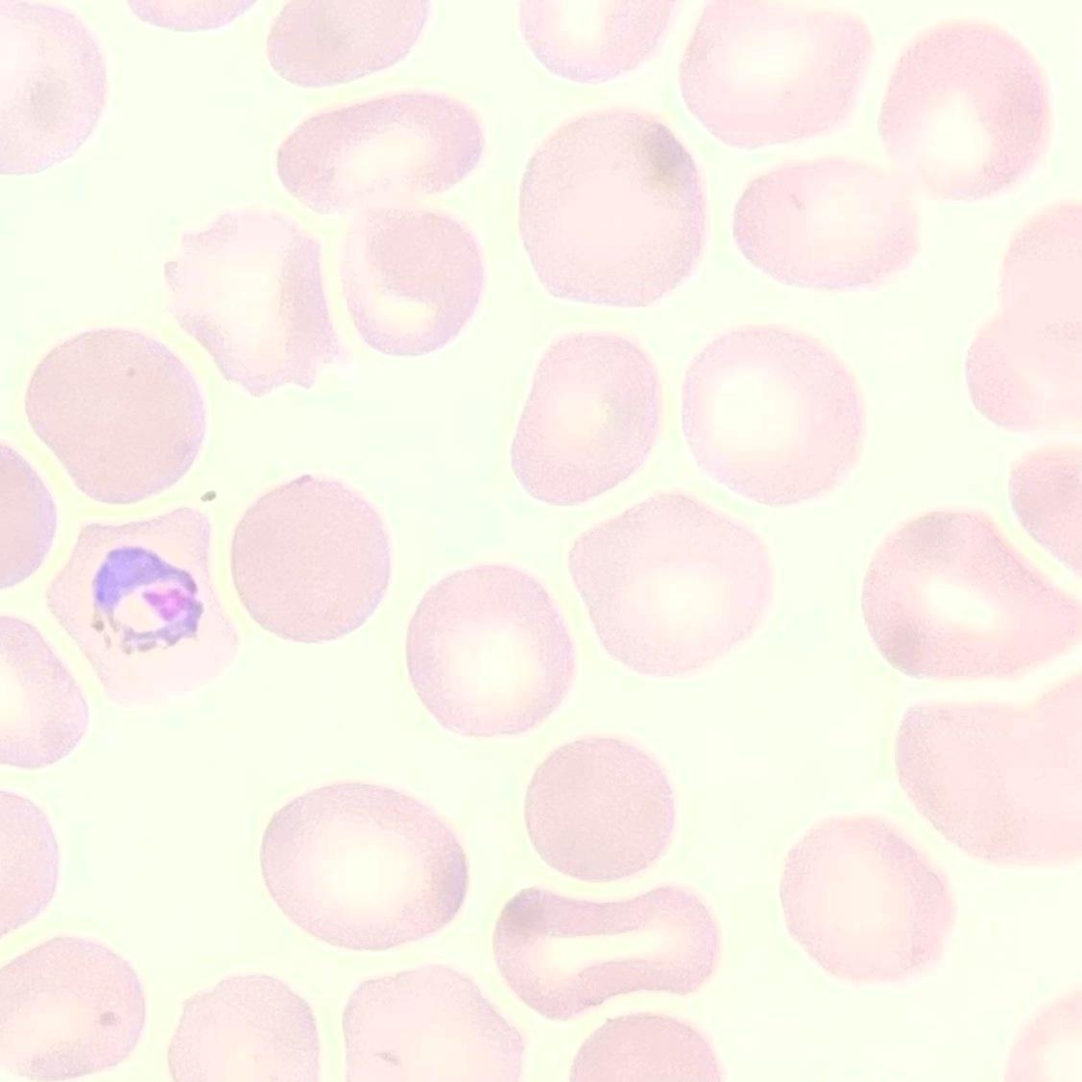Infected: (48, 513, 227, 704)
Uninfected: (854, 500, 1081, 672), (16, 321, 210, 507), (525, 110, 705, 309), (576, 494, 771, 676), (675, 327, 874, 505), (259, 779, 466, 945), (886, 7, 1046, 210), (490, 881, 716, 1020), (899, 699, 1082, 868), (400, 558, 569, 736), (170, 209, 332, 392), (784, 808, 957, 975), (682, 1, 874, 146), (227, 472, 391, 640), (509, 324, 656, 494), (275, 91, 477, 213), (730, 158, 912, 292), (518, 728, 673, 883), (336, 955, 520, 1082), (333, 209, 492, 354), (0, 929, 135, 1082)
